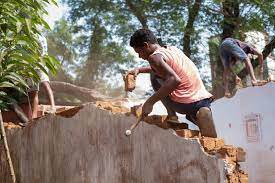arm: (135, 71, 177, 119), (256, 52, 265, 75)
face: (131, 41, 153, 59)
human: (123, 14, 218, 141)
leg: (191, 97, 237, 178), (242, 58, 267, 86), (221, 63, 231, 95)
nofootwear: (193, 106, 220, 138)
noglove: (138, 95, 157, 118), (131, 99, 148, 120), (126, 62, 142, 76)
nohelmet: (130, 27, 158, 58)
novest: (156, 43, 208, 105), (234, 36, 253, 51)
